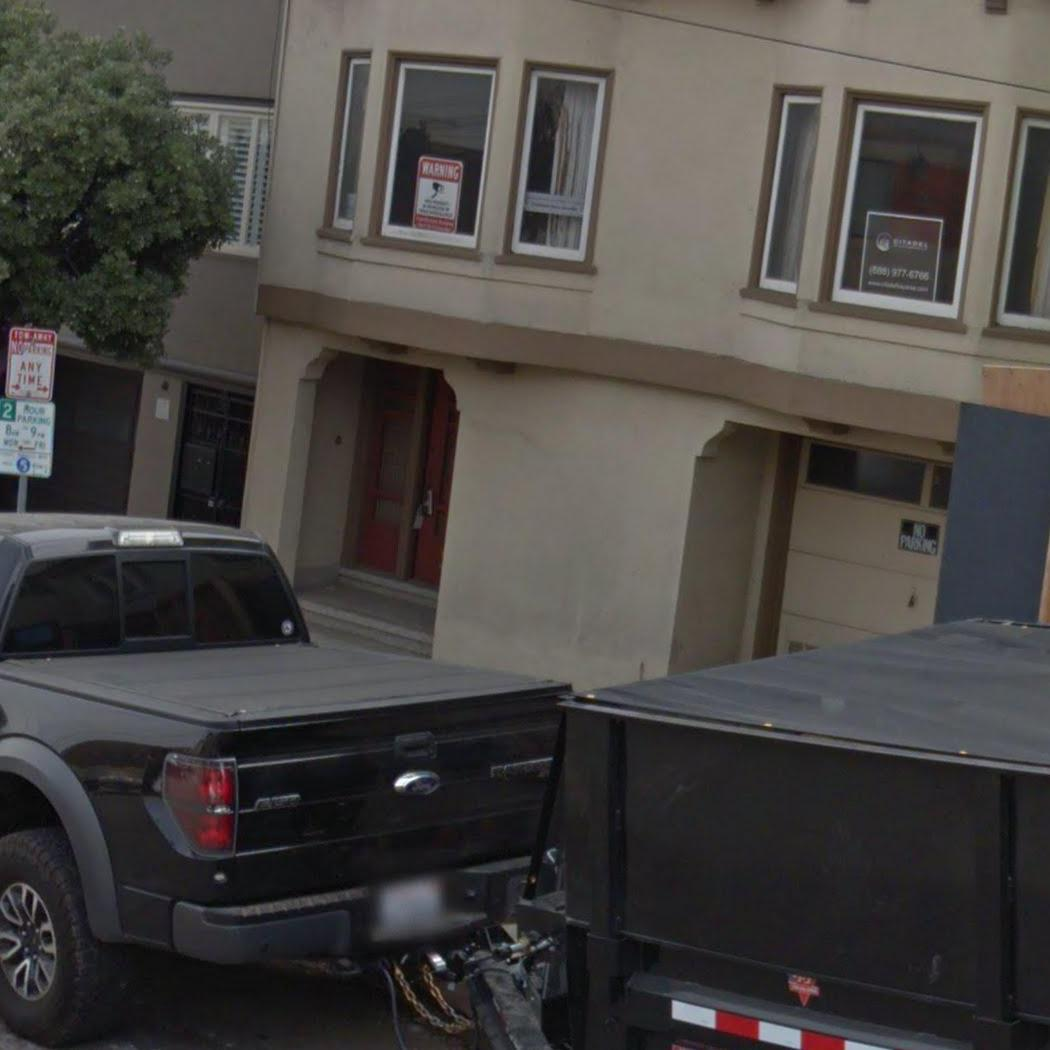2 Hour Parking: (2, 395, 58, 482)
No Parking Anytime: (1, 326, 60, 402)
